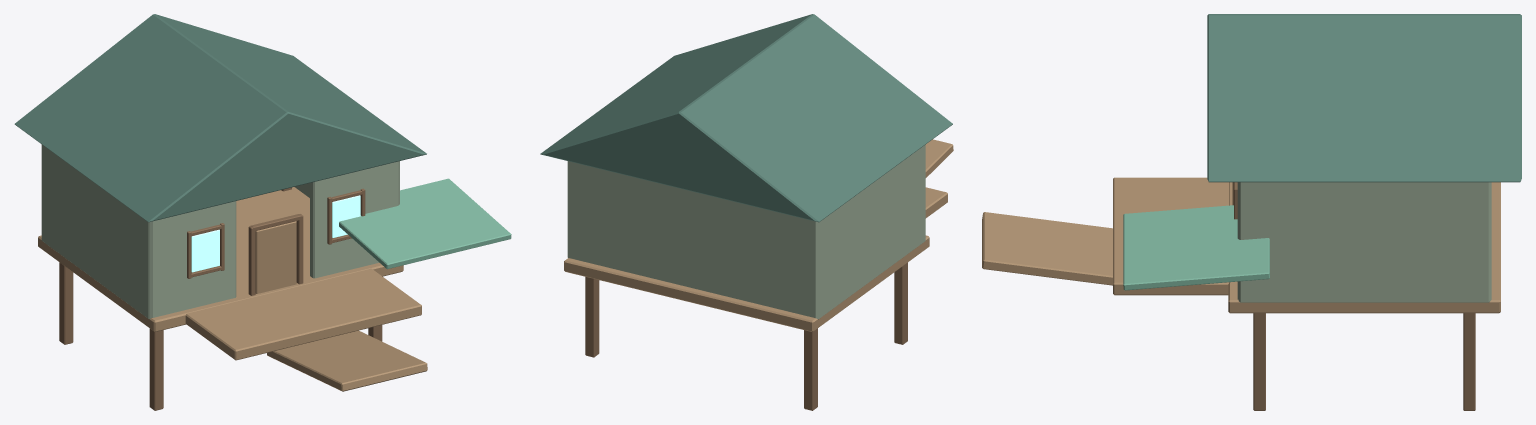
Rendered from LumenGlowmereStiltHouse.glb.
3 views of the same model, side by side, from view 1: azimuth 30°, elevation 25°; view 2: azimuth 150°, elevation 25°; view 3: azimuth 270°, elevation 25° (orthographic). The views are drawn at different scales.
Visible parts, largest first — view 1: LumenGlowmereStiltHouse; view 2: LumenGlowmereStiltHouse; view 3: LumenGlowmereStiltHouse.
Boxes of the visible parts, bbox=[...] form: LumenGlowmereStiltHouse: bbox=[14, 14, 511, 410]; LumenGlowmereStiltHouse: bbox=[540, 14, 953, 410]; LumenGlowmereStiltHouse: bbox=[982, 14, 1521, 410].
Bounding box in the file's own units: 20.93 × 17.46 × 25.74.
